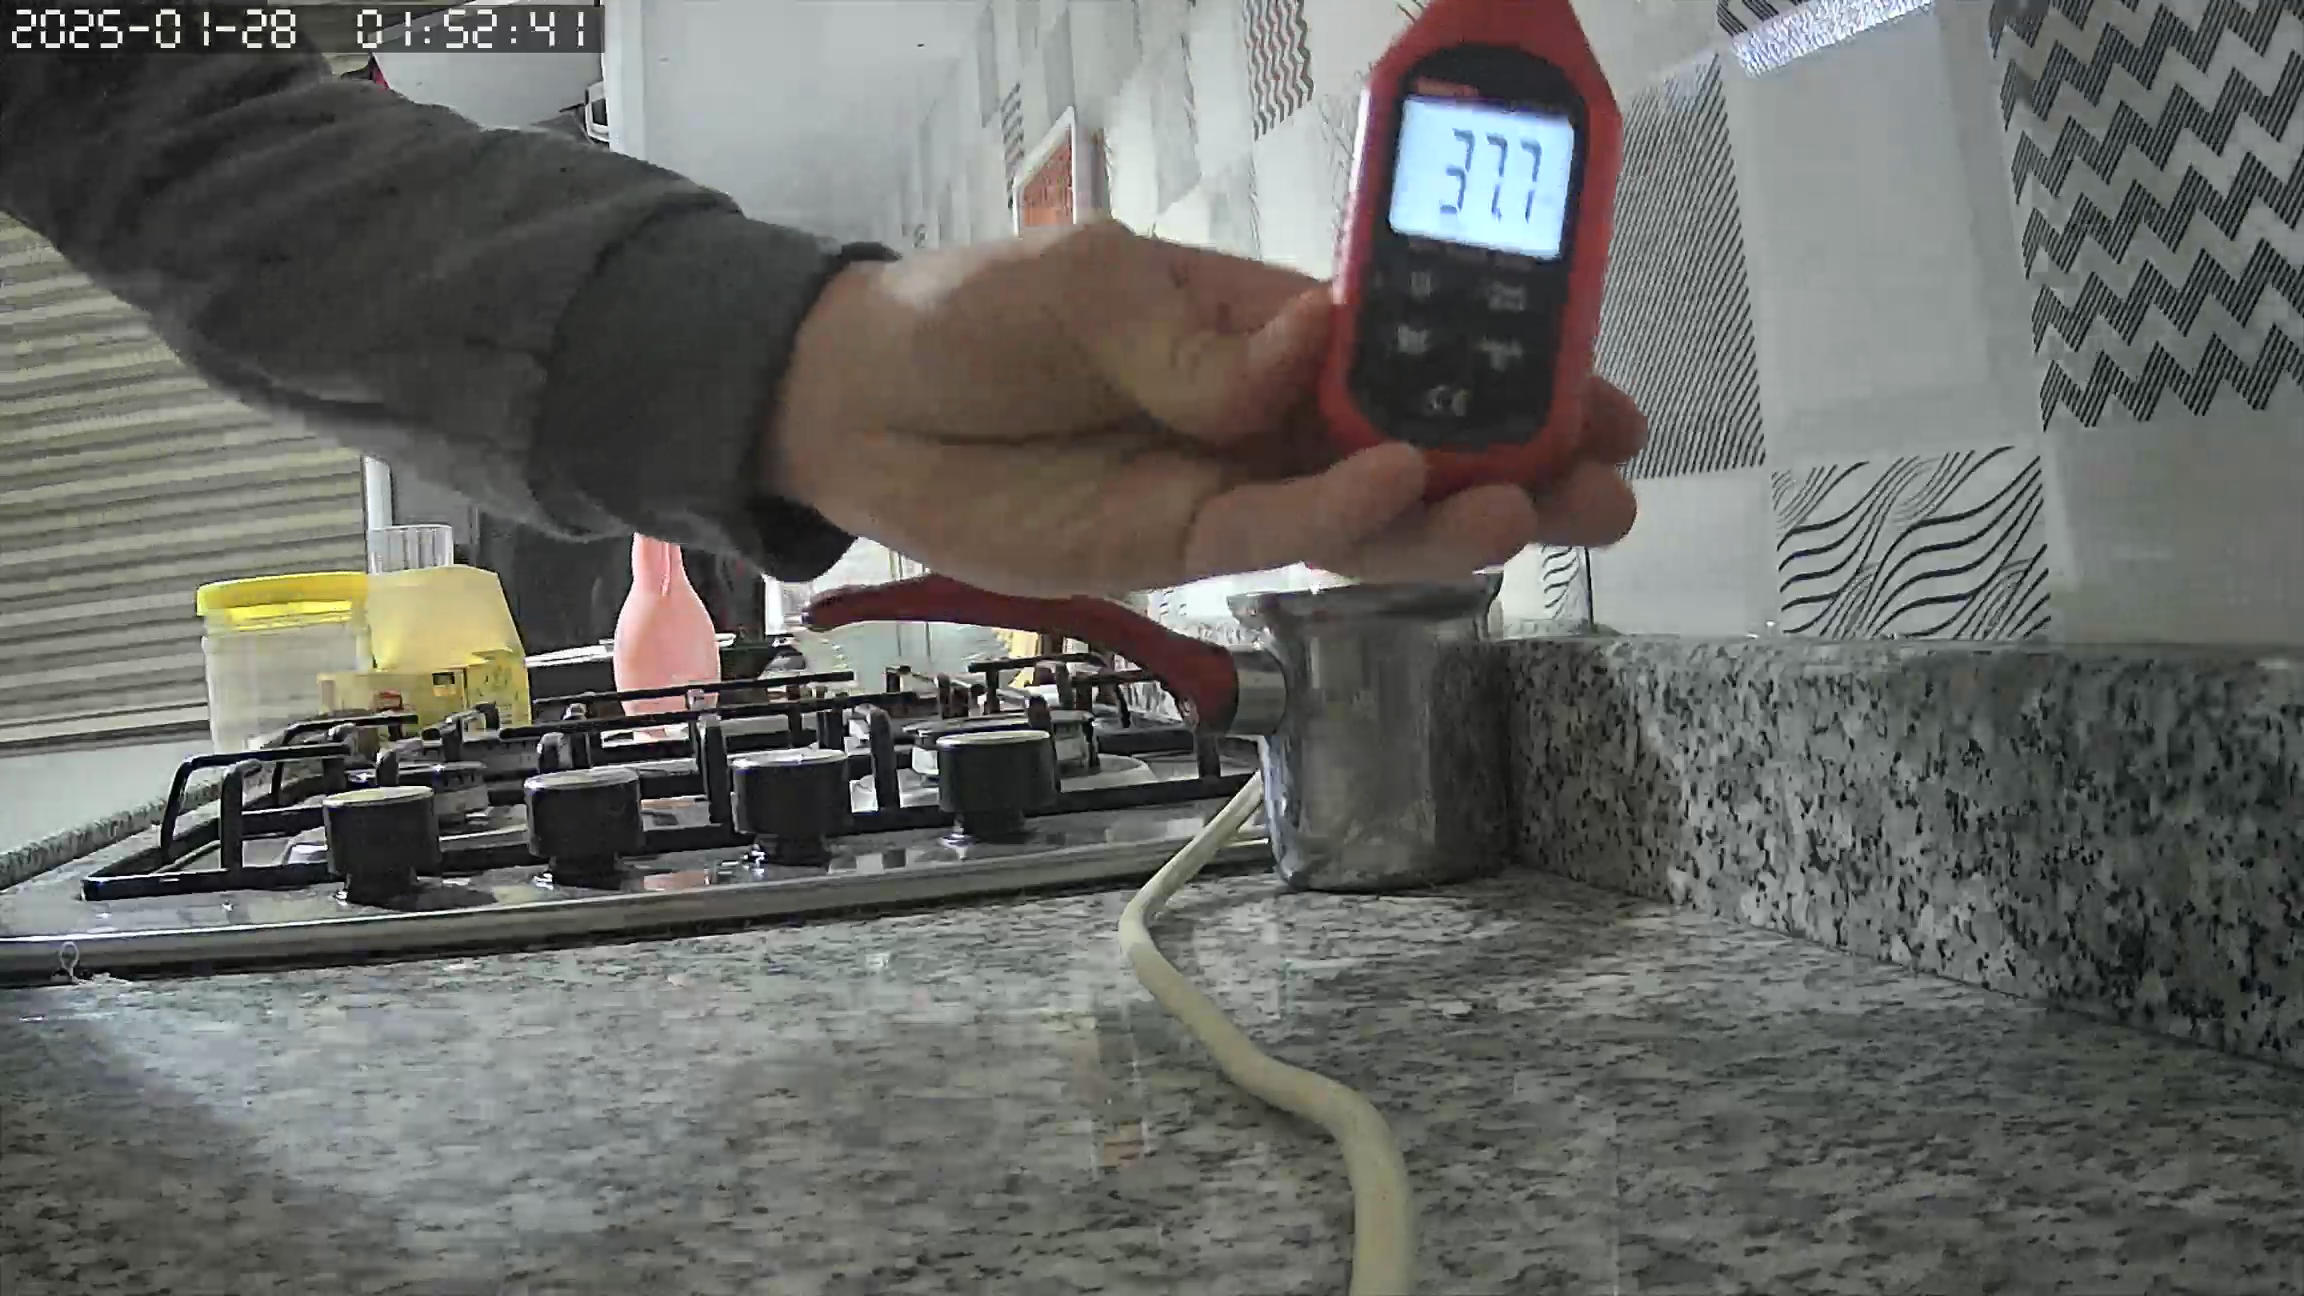screen: (1389, 97, 1578, 261)
